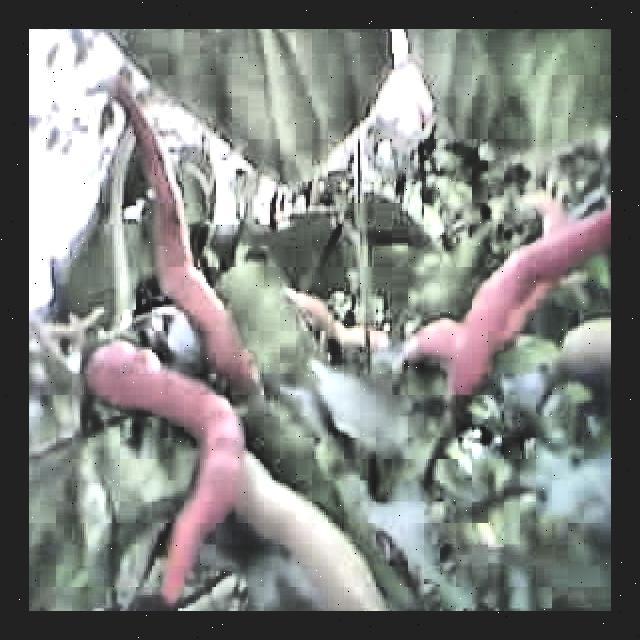Cabai: (105, 85, 280, 376), (101, 329, 238, 569), (392, 191, 611, 314)
